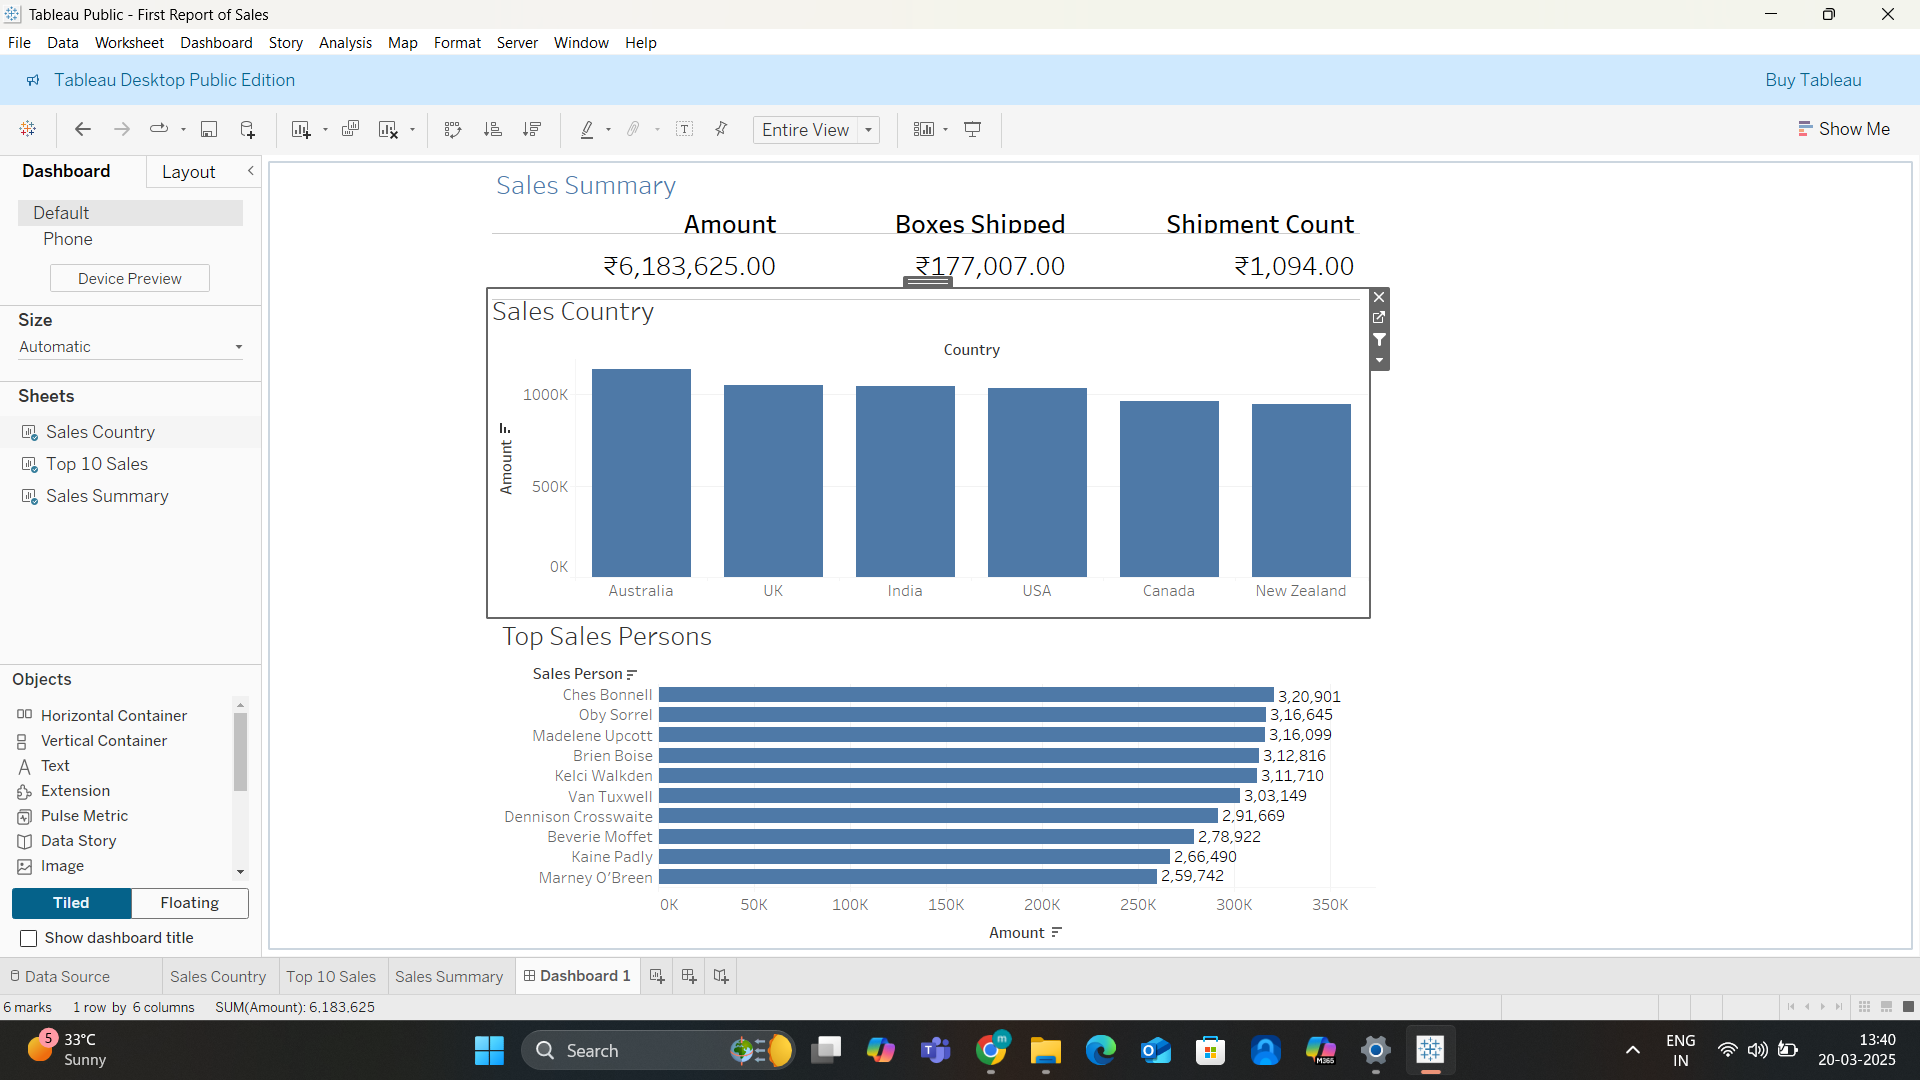

This screenshot's page, from the dashboard's own definition file:
{"tool":"tableau","page":{"name":"Dashboard 1","canvas":[1000,1000],"units":"permille","ordinal":0},"visuals":[{"type":"worksheet","title":"Sales Summary","mark":"Automatic","box":[138.8,10,523.8,171]},{"type":"worksheet","title":"Sales Country","mark":"Automatic","rows":["Amount"],"cols":["Country"],"box":[136.4,167.3,531.7,409.5]},{"type":"worksheet","title":"Top 10 Sales","mark":"Automatic","rows":["Sales Person"],"cols":["Amount"],"box":[142.4,573,529.9,419.5]}]}

Visuals, with their boxes on the dashboard's canvas, which has no fixed pixel size, in thousandths of its width and height (x1, y1, x2, y2). These are canvas units, not pixel positions in the 1920x1080 screenshot, which may show the page scaled, cropped or inside an application window:
"Sales Summary" worksheet: [139, 10, 663, 181]
"Sales Country" worksheet: [136, 167, 668, 577]
"Top 10 Sales" worksheet: [142, 573, 672, 992]
